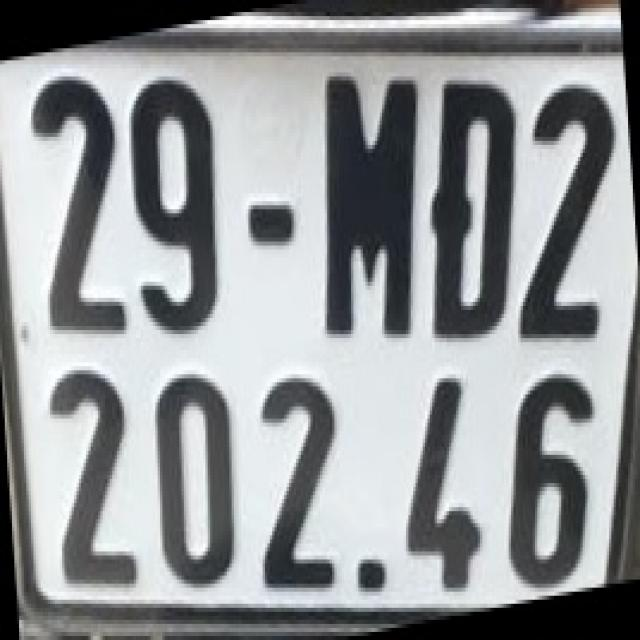0: (153, 366, 236, 588)
2: (26, 65, 129, 338), (518, 73, 616, 346), (45, 362, 141, 588), (256, 366, 339, 592)
4: (401, 370, 485, 596)
6: (506, 366, 595, 592)
9: (126, 69, 225, 338)
D: (427, 69, 516, 342)
M: (317, 67, 419, 344)
